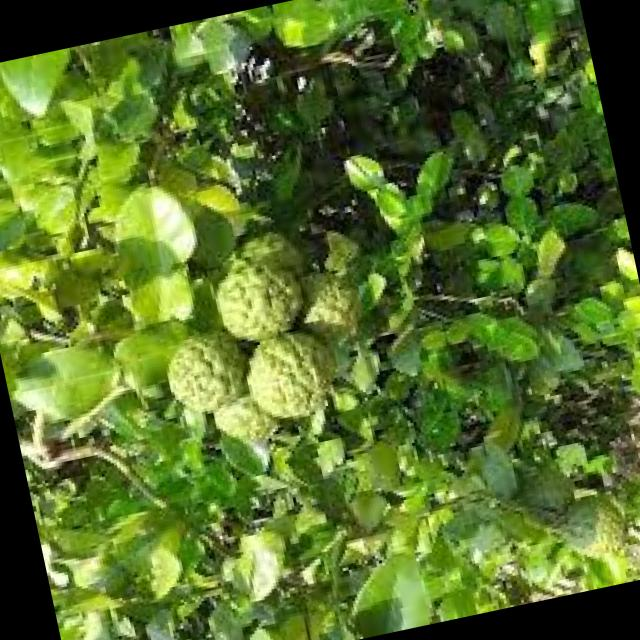Chuc: (236, 324, 344, 428), (206, 251, 312, 350), (158, 325, 252, 422), (546, 488, 634, 570), (292, 266, 365, 344), (208, 389, 283, 454)
